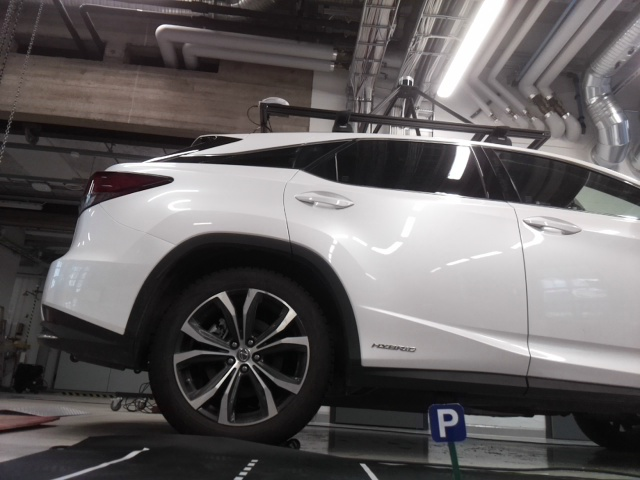Parking: (426, 403, 466, 441)
